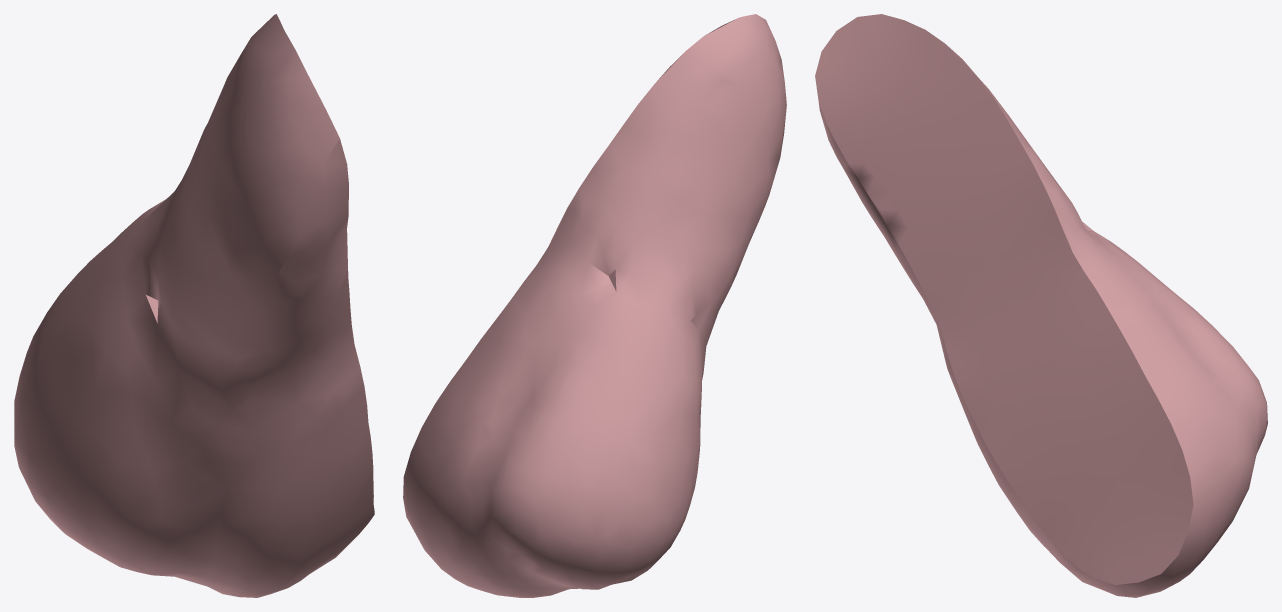
The model's file is fma74868-l_mm2852.glb.
The picture shows the model from 3 angles, left to right: view 1: azimuth 30°, elevation 25°; view 2: azimuth 150°, elevation 25°; view 3: azimuth 270°, elevation 25°; orthographic projection. The views are drawn at different scales.
Visible parts, largest first — view 1: FMA74868-L_MM2852; view 2: FMA74868-L_MM2852; view 3: FMA74868-L_MM2852.
Boxes of the visible parts, left/top/right/bottom form: FMA74868-L_MM2852: left=14, top=14, right=374, bottom=597; FMA74868-L_MM2852: left=403, top=14, right=786, bottom=597; FMA74868-L_MM2852: left=815, top=14, right=1267, bottom=597.
Size of the model in its own units: 0.00437 by 0.0087 by 0.00685.
